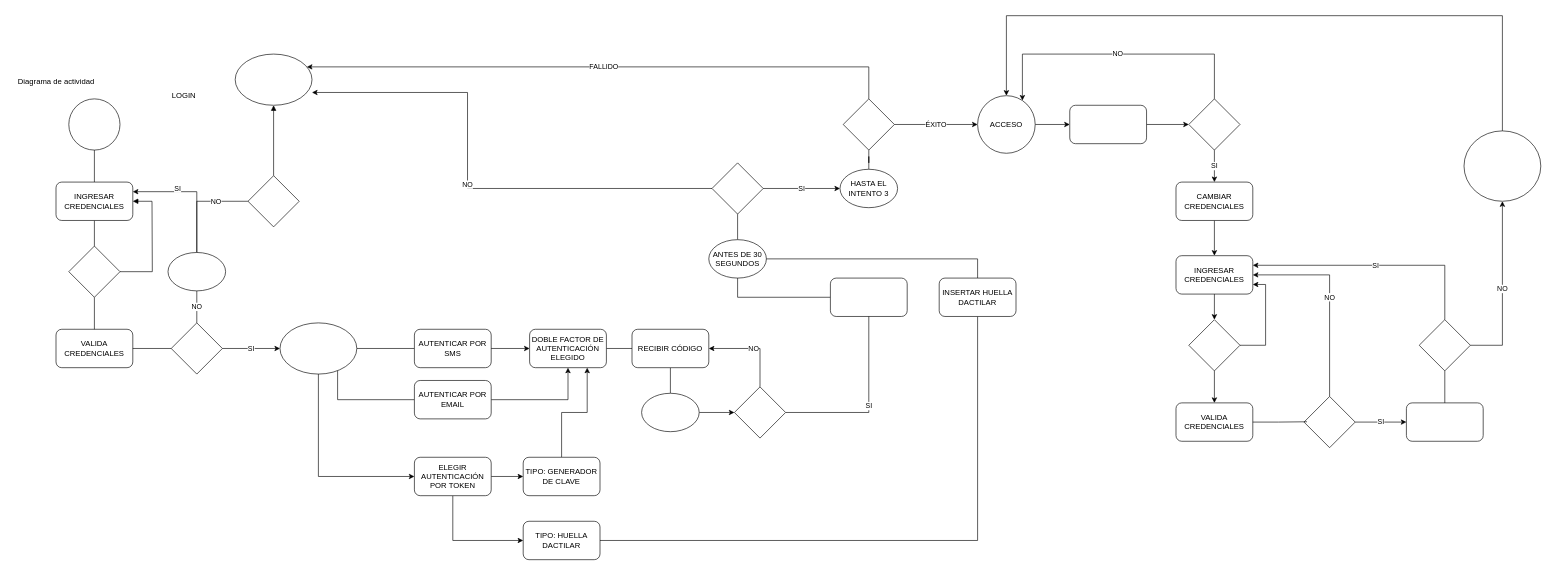
This 1552x571 diagram has some shape labels left out. Each missing label, with the box of its shape:
ANES DE 3 INTENTOS: (167, 252, 226, 291)
BLOQUEO: (235, 53, 312, 105)
CREDENCIALES ACTUALIZADAS: (1463, 130, 1541, 201)
CREDENCIALES NUEVAS SON IGUALES A LAS ANTERIORES: (1406, 402, 1483, 441)
CREDENCIALES TIENE MAS DE 6 MESES: (1069, 105, 1147, 144)
ELEGIR DOBLE FACTOR DE AUTENTICACIÓN: (279, 322, 357, 374)
ESCRIBIR CÓDIGO: (830, 277, 907, 316)
RECIBIÓ EL CÓDIGO: (641, 393, 699, 432)
